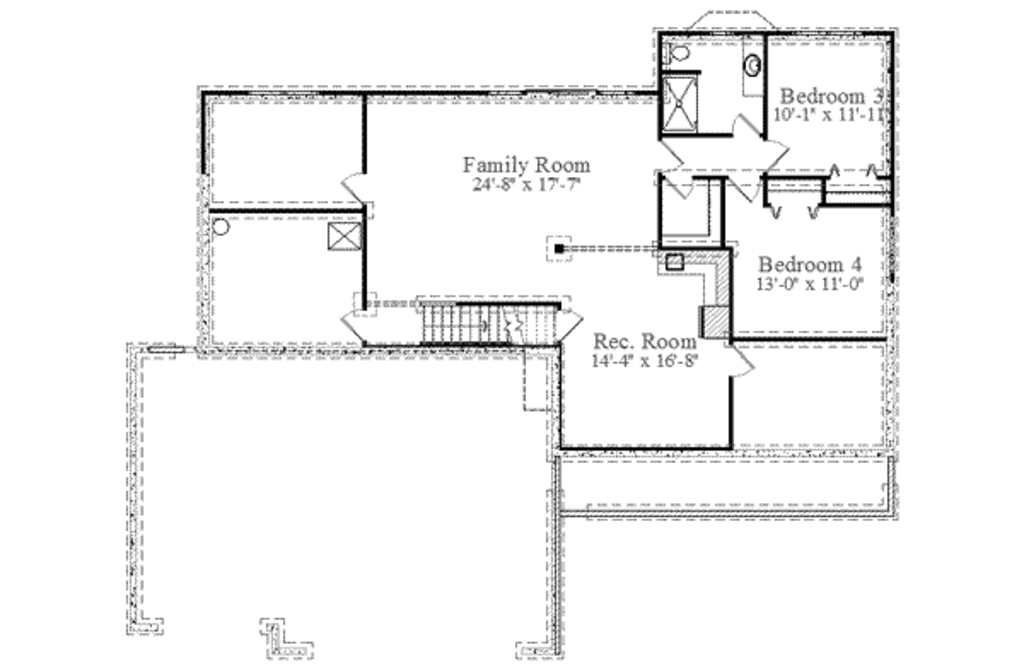door: (722, 163, 763, 203), (332, 165, 374, 202), (658, 163, 698, 201), (717, 341, 753, 381), (756, 134, 794, 169), (338, 305, 369, 344), (727, 111, 768, 140), (554, 305, 584, 343)
large_sink: (651, 33, 702, 67)
small_sink: (732, 33, 772, 95)
stairs: (368, 297, 561, 350)
